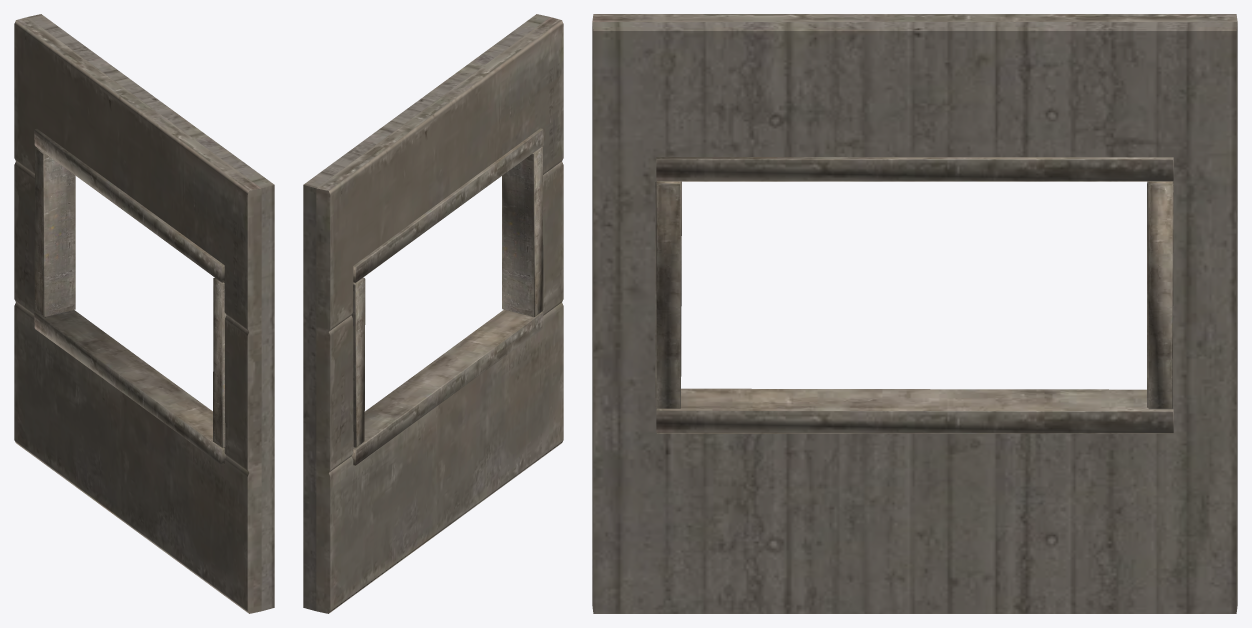
Rendered from wall.window.brutalist.glb.
3 views of the same model, side by side, from view 1: azimuth 30°, elevation 25°; view 2: azimuth 150°, elevation 25°; view 3: azimuth 270°, elevation 25° (orthographic). The views are drawn at different scales.
Visible parts, largest first — view 1: model; view 2: model; view 3: model.
Boxes of the visible parts, x1=… form: model: x1=14, y1=14, x2=274, y2=613; model: x1=303, y1=14, x2=563, y2=613; model: x1=592, y1=14, x2=1237, y2=613.
Size of the model in its own units: 0.2501 by 3 by 3.01.
Materials: 1 (1 with a texture image).
